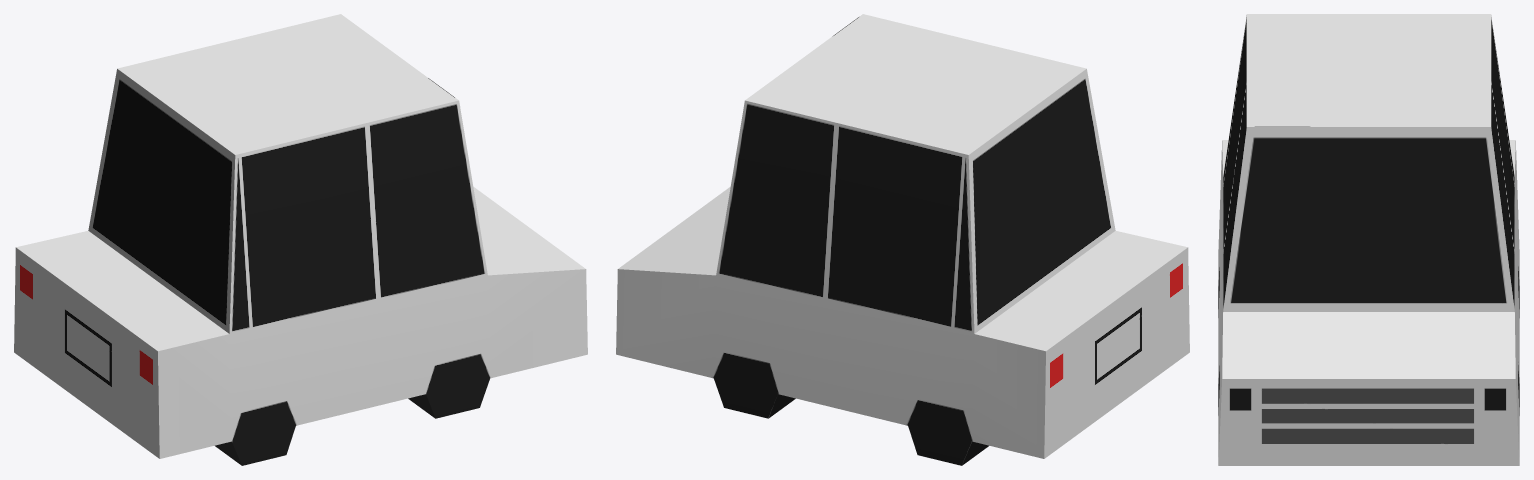
The model's file is car_sedan.dae.
The picture shows the model from 3 angles, left to right: view 1: azimuth 30°, elevation 25°; view 2: azimuth 150°, elevation 25°; view 3: azimuth 270°, elevation 25°; orthographic projection. The views are drawn at different scales.
Parts seen in each view (by area): view 1: car_sedan; view 2: car_sedan; view 3: car_sedan.
Part boxes in pixels (<box>): car_sedan: <box>14,14,587,465</box>; car_sedan: <box>616,14,1189,465</box>; car_sedan: <box>1218,14,1519,465</box>.
Bounding box in the file's own units: 276 × 184 × 162.
1 material, 1 textured.
